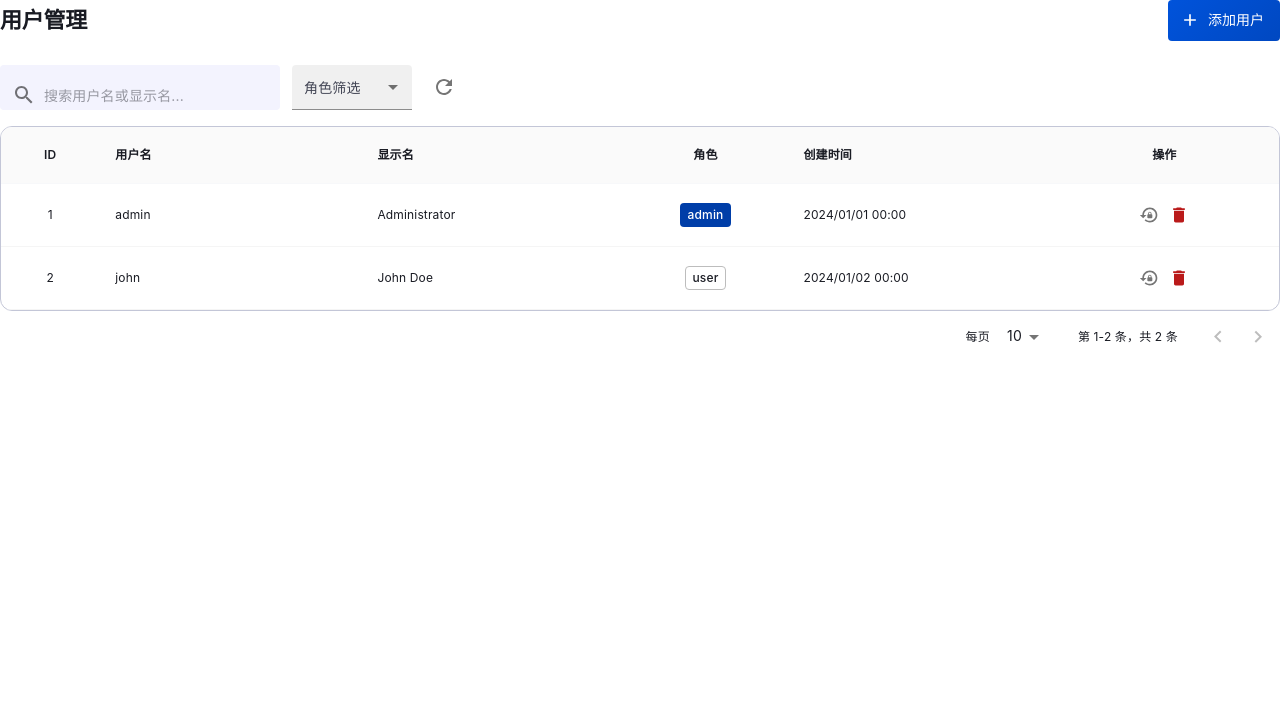
AdminUsers › deletes user on confirm
Expected: the text "john" is shown, 99,246 -> 361,309
Click the button named "删除用户John Doe". click: point(1179, 278)
box: 1164,263 -> 1194,293
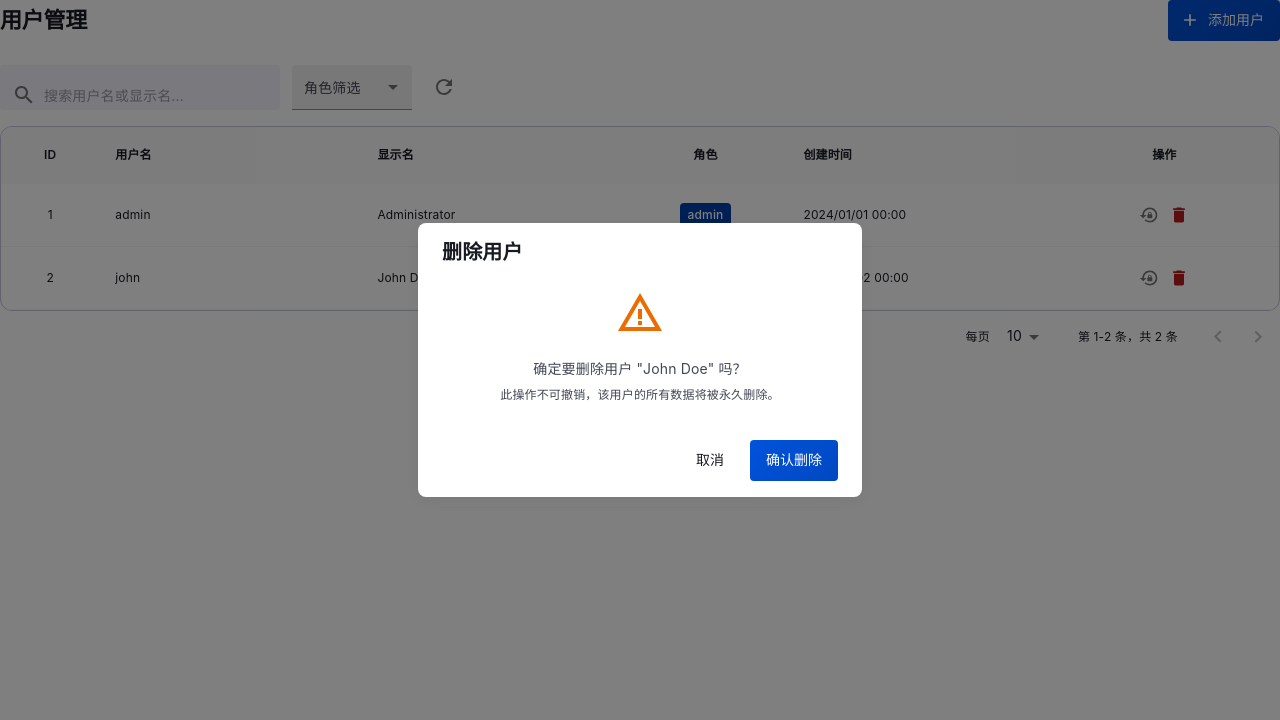
Expected: the button "确认删除" is shown
Click the button "确认删除". click: point(794, 461)
box: 750,440 -> 838,481
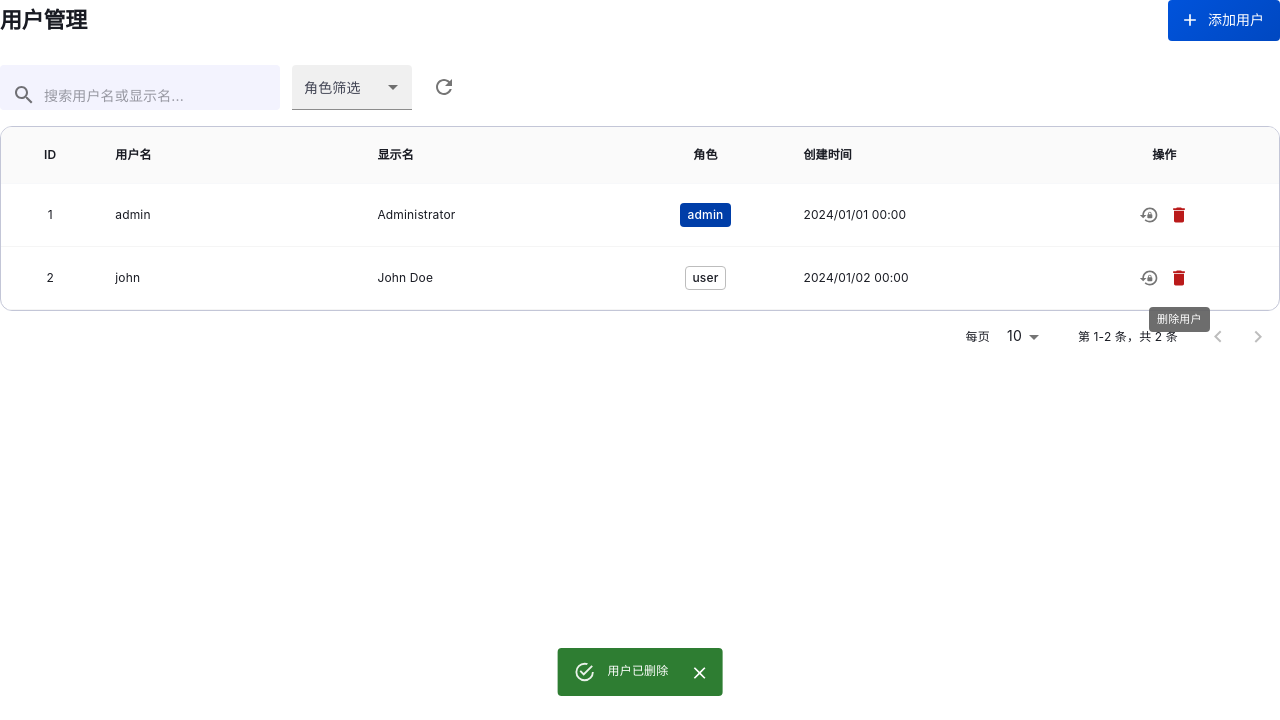
Expected: the text "用户已删除" is shown, 608,663 -> 668,678
